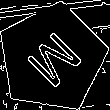M_SE: (18, 24, 86, 92)
